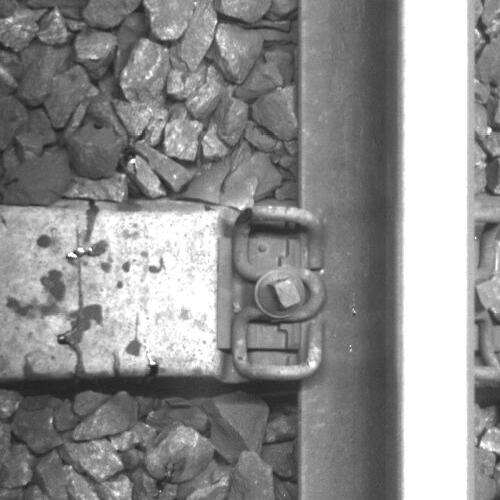rail: (399, 1, 475, 500)
tie_concr: (1, 204, 299, 375)
vossloh: (217, 205, 326, 377)
